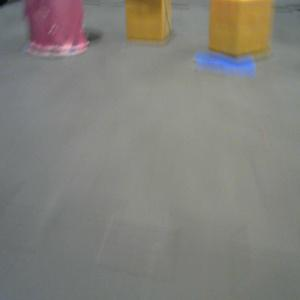middle: (24, 1, 89, 56)
